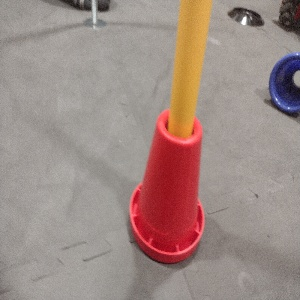Blue_1: (265, 48, 299, 117)
Red_1: (129, 105, 206, 263)
